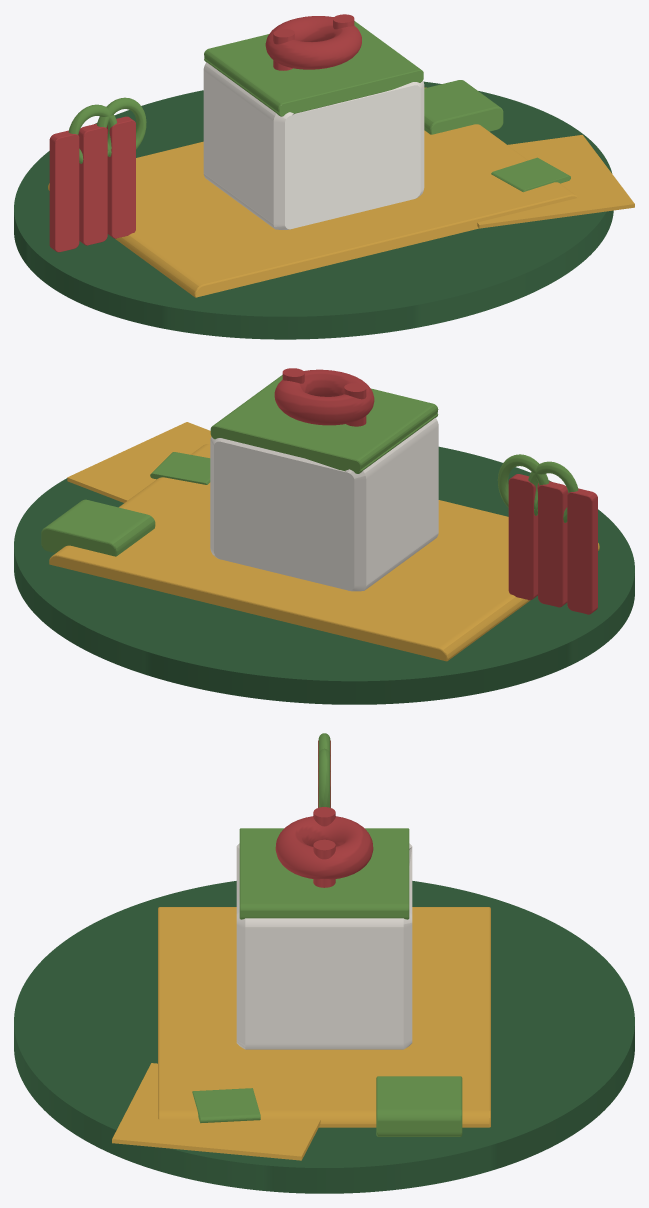
File: 1193_唐图鉴_莫高窟第45窟.glb
3 views of the same model, one above another, from view 1: azimuth 30°, elevation 25°; view 2: azimuth 150°, elevation 25°; view 3: azimuth 270°, elevation 25° (orthographic). The views are drawn at different scales.
Parts seen in each view (by area): view 1: card_1193; view 2: card_1193; view 3: card_1193.
Part boxes in pixels (left/top/right/bottom): card_1193: left=14, top=14, right=634, bottom=339; card_1193: left=14, top=368, right=634, bottom=704; card_1193: left=14, top=733, right=634, bottom=1193.
Size of the model in its own units: 2.88 by 1 by 2.58.
